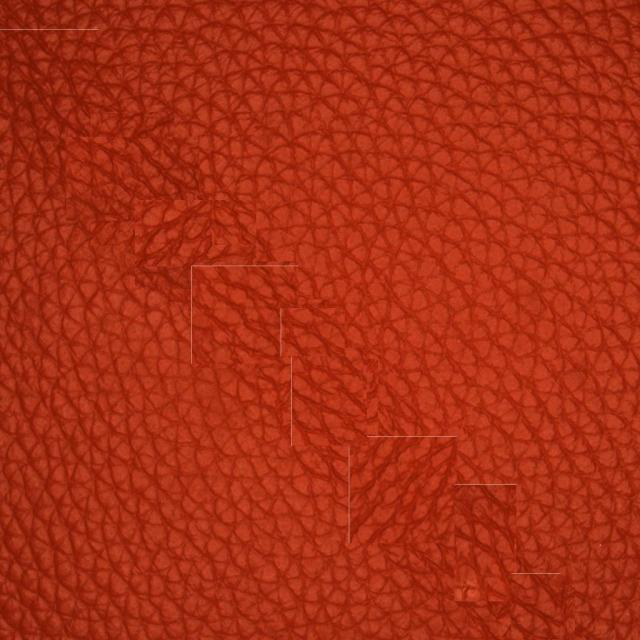Healed Injury: (133, 198, 352, 419), (333, 417, 529, 621)
